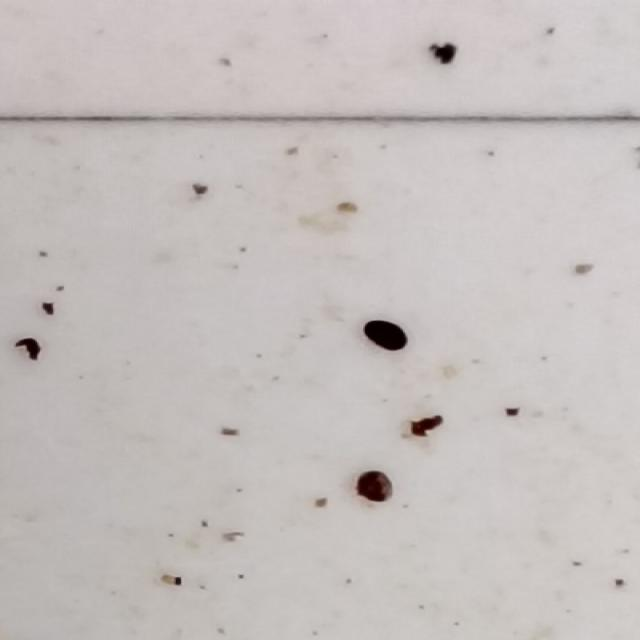varroa: (363, 319, 413, 355), (355, 471, 398, 507)
